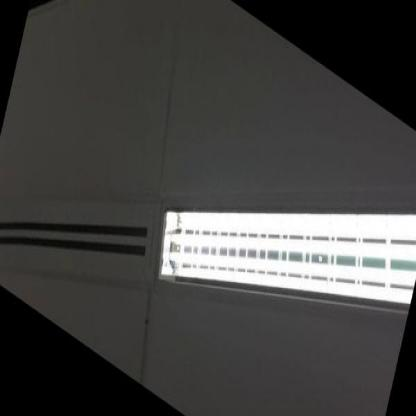light_on: (138, 35, 415, 414)
